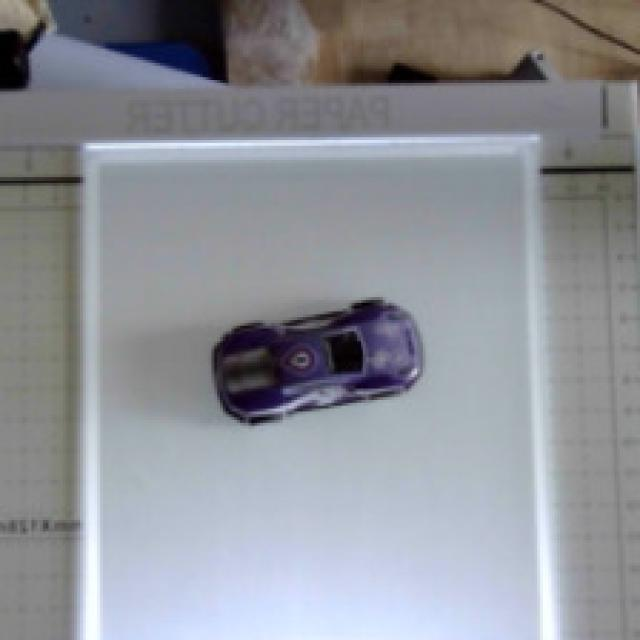Purple Car: (172, 263, 475, 468)
